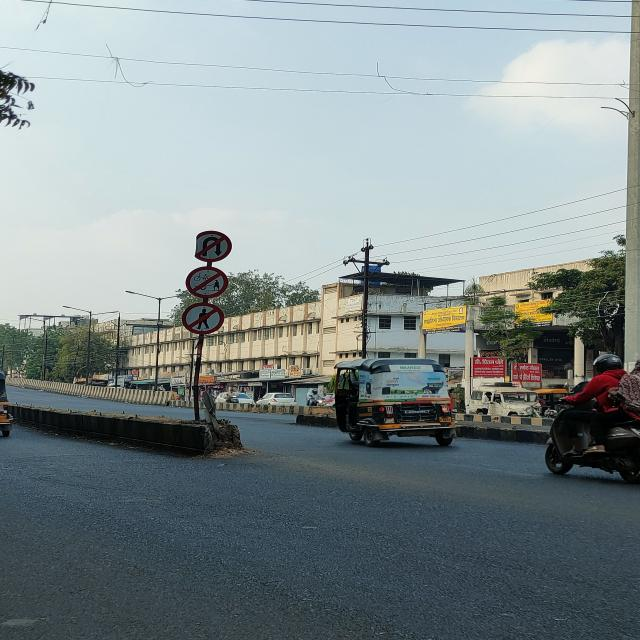CYCLE_PROHIBITED: (182, 267, 228, 299)
